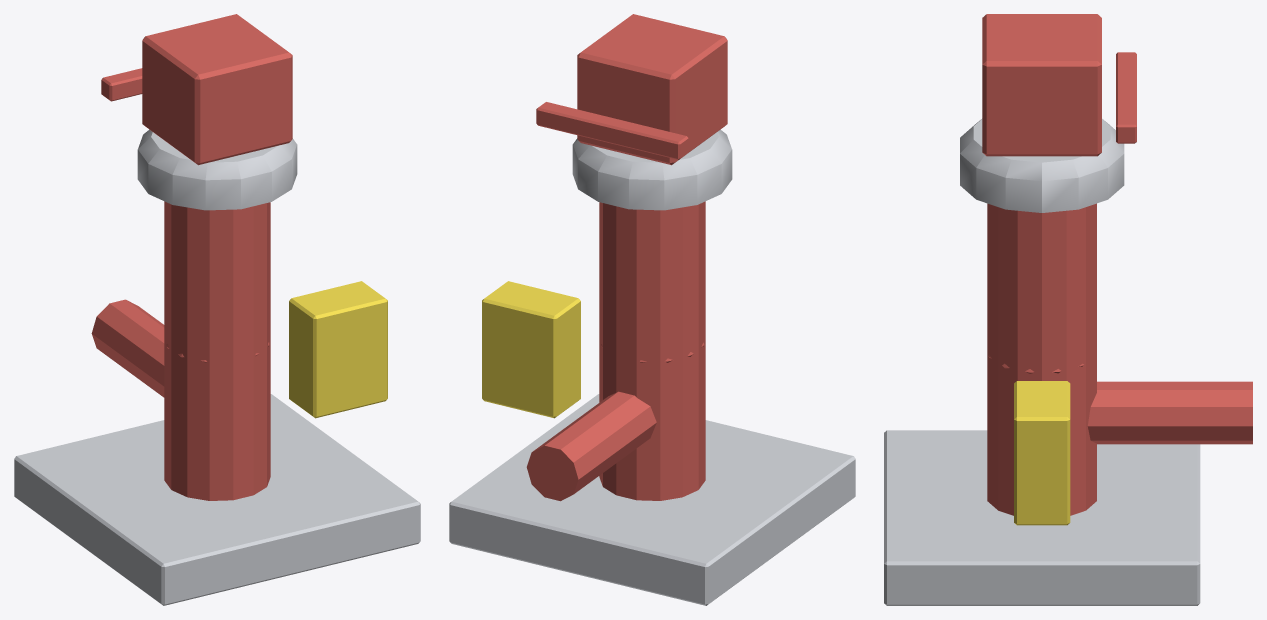
3 renders of one model, left to right at view 1: azimuth 30°, elevation 25°; view 2: azimuth 150°, elevation 25°; view 3: azimuth 270°, elevation 25°, orthographic. The views are drawn at different scales.
Parts seen in each view (by area): view 1: fire-monitor, monitor-gun; view 2: fire-monitor, monitor-gun; view 3: fire-monitor, monitor-gun.
Part boxes in pixels (bbox=[...]): fire-monitor: bbox=[14, 129, 420, 605]; monitor-gun: bbox=[101, 14, 292, 362]; fire-monitor: bbox=[449, 129, 855, 605]; monitor-gun: bbox=[536, 14, 727, 362]; fire-monitor: bbox=[884, 119, 1252, 605]; monitor-gun: bbox=[982, 14, 1136, 373].
Bounding box in the file's own units: 1 × 1.58 × 1.05.
